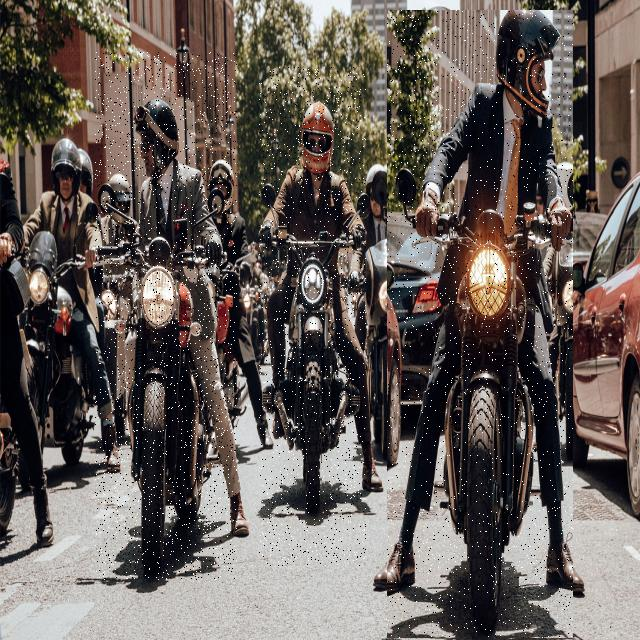With Helmet: (387, 10, 573, 638), (95, 52, 237, 580), (259, 67, 366, 566)
